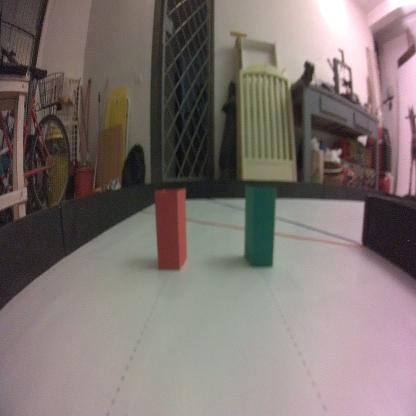green: (241, 180, 279, 269)
red: (154, 184, 188, 274)
